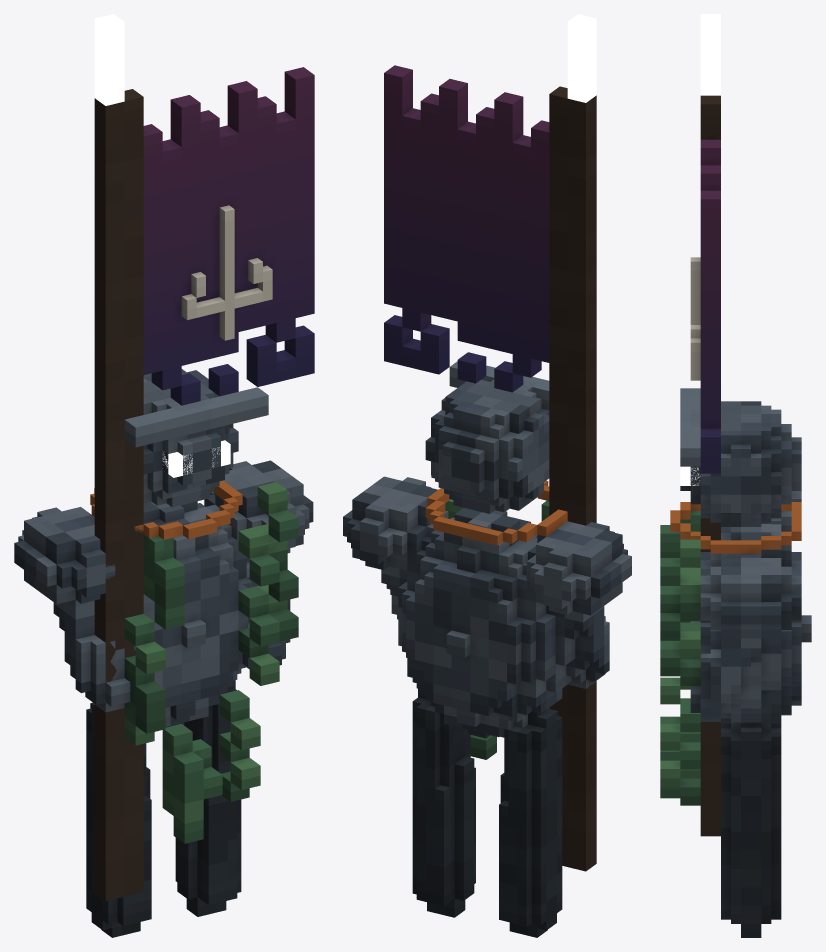
File: u_porte_etendard.glb
The picture shows the model from 3 angles, left to right: view 1: azimuth 30°, elevation 25°; view 2: azimuth 150°, elevation 25°; view 3: azimuth 270°, elevation 25°; orthographic projection. The views are drawn at different scales.
Visible parts, largest first — view 1: porte_etendard_weapon, porte_etendard_body, porte_etendard_weaponglow, porte_etendard_glow; view 2: porte_etendard_body, porte_etendard_weapon, porte_etendard_weaponglow; view 3: porte_etendard_body, porte_etendard_weapon, porte_etendard_weaponglow.
Part boxes in pixels (left/top/right/bottom): porte_etendard_weapon: left=94, top=67, right=314, bottom=901; porte_etendard_body: left=14, top=369, right=313, bottom=937; porte_etendard_weaponglow: left=94, top=14, right=124, bottom=105; porte_etendard_glow: left=162, top=440, right=230, bottom=477; porte_etendard_body: left=343, top=361, right=631, bottom=937; porte_etendard_weapon: left=384, top=65, right=596, bottom=871; porte_etendard_weaponglow: left=567, top=14, right=596, bottom=102; porte_etendard_body: left=660, top=388, right=811, bottom=937; porte_etendard_weapon: left=690, top=95, right=720, bottom=836; porte_etendard_weaponglow: left=700, top=14, right=720, bottom=95.
Size of the model in its own units: 0.7 by 2.35 by 0.375.
